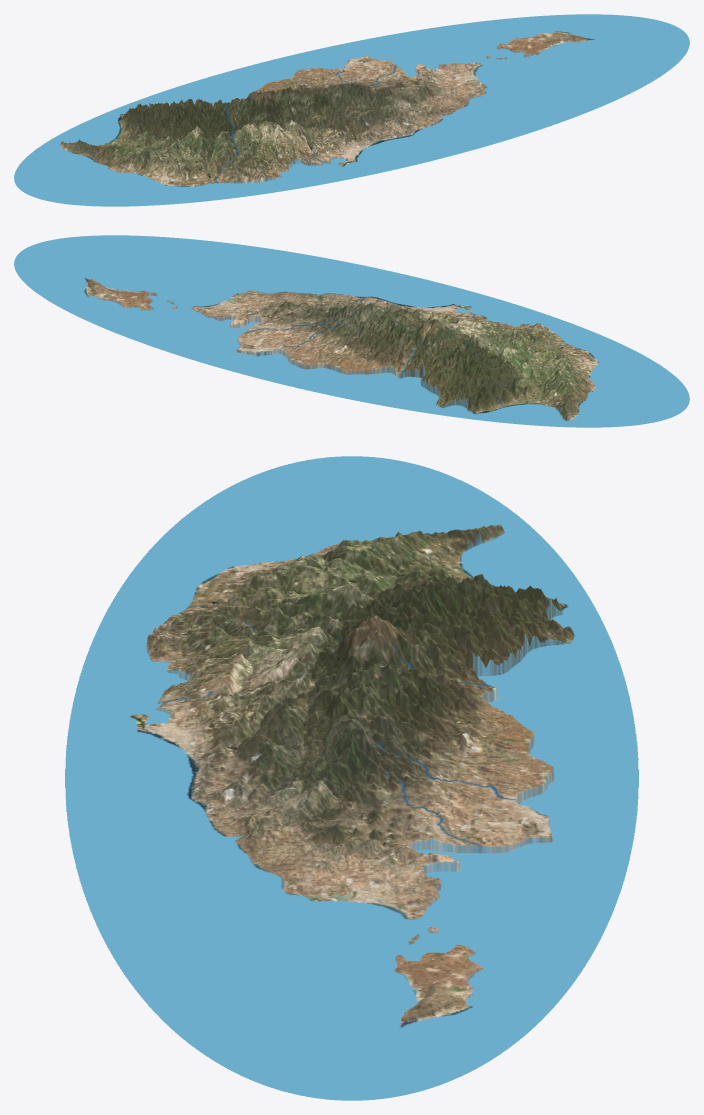
Rendered from CYP-previa-terrain.glb.
The picture shows the model from 3 angles, top to bottom: view 1: azimuth 30°, elevation 25°; view 2: azimuth 150°, elevation 25°; view 3: azimuth 270°, elevation 25°; orthographic projection. The views are drawn at different scales.
Parts seen in each view (by area): view 1: Chipre; view 2: Chipre; view 3: Chipre.
Boxes of the visible parts, x1=… form: Chipre: x1=14, y1=14, x2=689, y2=206; Chipre: x1=14, y1=235, x2=689, y2=427; Chipre: x1=65, y1=456, x2=638, y2=1100.
Bounding box in the file's own units: 2.27 × 0.1212 × 0.8525.
Materials: 1 (1 with a texture image).
